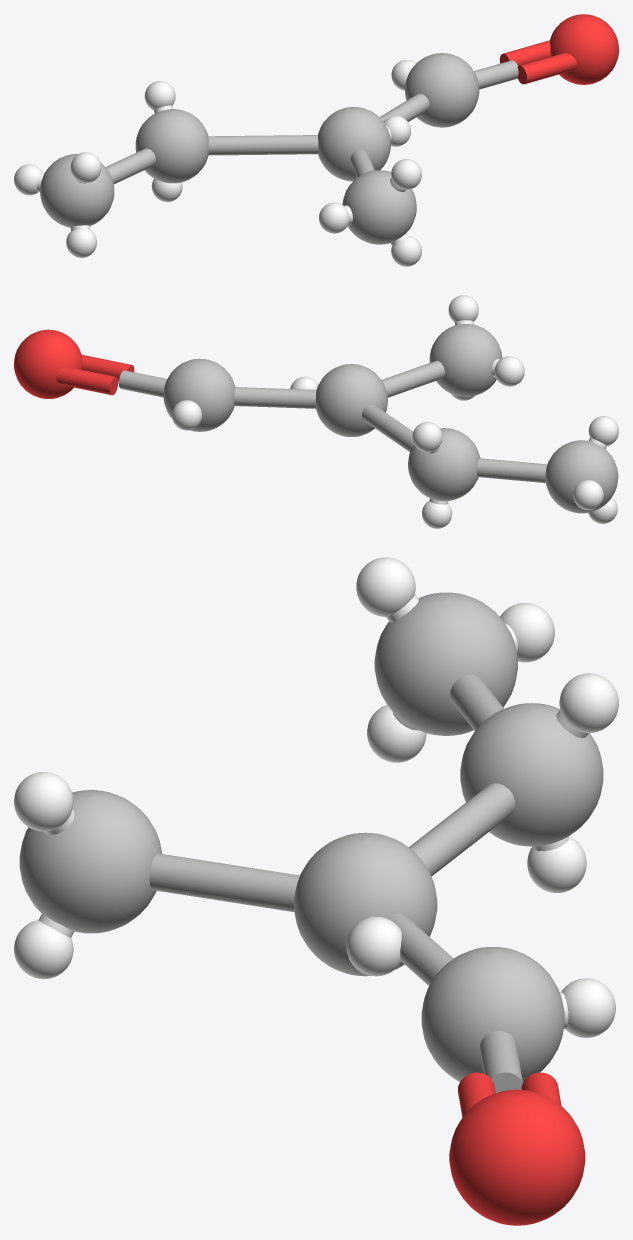
The model's file is aldehido.glb.
The picture shows the model from 3 angles, top to bottom: view 1: azimuth 30°, elevation 25°; view 2: azimuth 150°, elevation 25°; view 3: azimuth 270°, elevation 25°; orthographic projection. The views are drawn at different scales.
Parts seen in each view (by area): view 1: Carbon_ball (×5), Hydrogen_ball (×10), Oxygen_ball (×2); view 2: Carbon_ball (×5), Hydrogen_ball (×8), Oxygen_ball; view 3: Carbon_ball (×6), Hydrogen_ball (×11), Oxygen_ball.
Part boxes in pixels (x1,y1,x2,y2): Carbon_ball (×5): (40, 53, 479, 244); Hydrogen_ball (×10): (14, 60, 421, 266); Oxygen_ball (×2): (550, 14, 618, 84); Carbon_ball (×5): (163, 324, 618, 513); Hydrogen_ball (×8): (172, 295, 618, 528); Oxygen_ball: (14, 329, 81, 398); Carbon_ball (×6): (19, 592, 603, 1082); Hydrogen_ball (×11): (14, 557, 618, 1037); Oxygen_ball: (449, 1089, 585, 1225).
Bounding box in the file's own units: 14.22 × 2.55 × 6.49.
